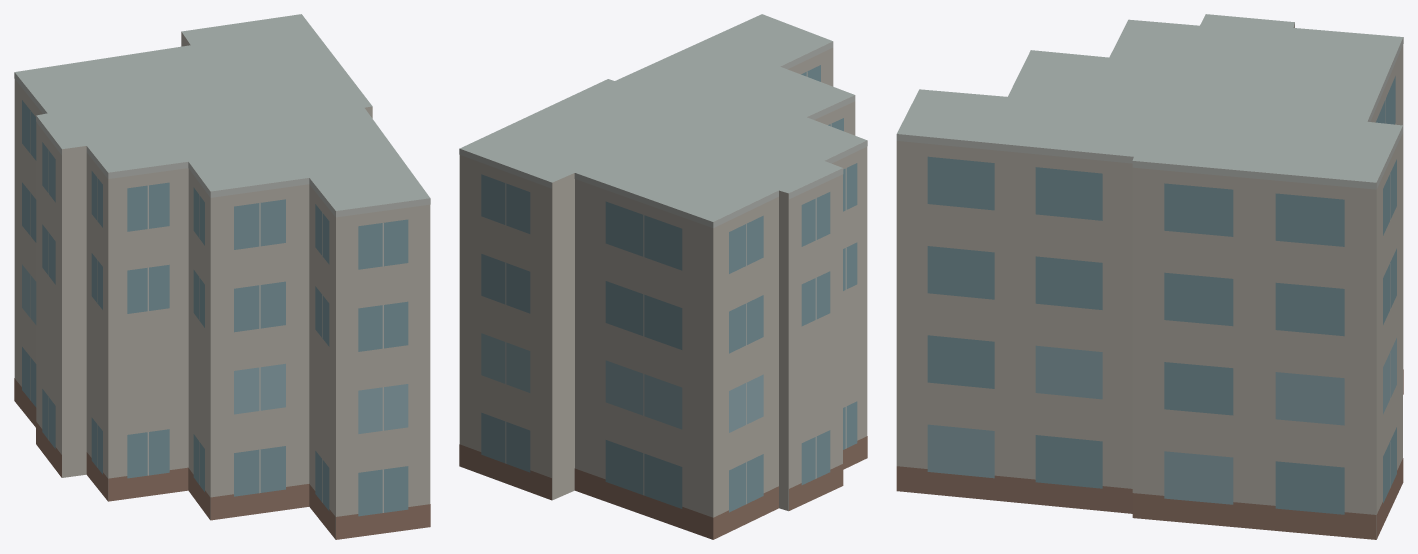
Rendered from survey-upis-32707882.glb.
3 views of the same model, side by side, from view 1: azimuth 30°, elevation 25°; view 2: azimuth 150°, elevation 25°; view 3: azimuth 270°, elevation 25° (orthographic). The views are drawn at different scales.
Parts seen in each view (by area): view 1: survey-upis-32707882.tmp; view 2: survey-upis-32707882.tmp; view 3: survey-upis-32707882.tmp.
Boxes of the visible parts, bbox=[...] form: survey-upis-32707882.tmp: bbox=[14, 14, 430, 539]; survey-upis-32707882.tmp: bbox=[459, 14, 867, 539]; survey-upis-32707882.tmp: bbox=[896, 14, 1403, 539].
Bounding box in the file's own units: 12.83 × 12.65 × 16.28.
